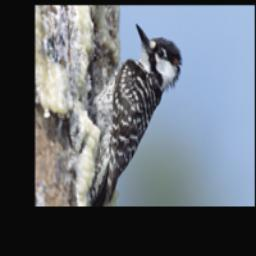Woodpecker: (63, 17, 183, 202)
